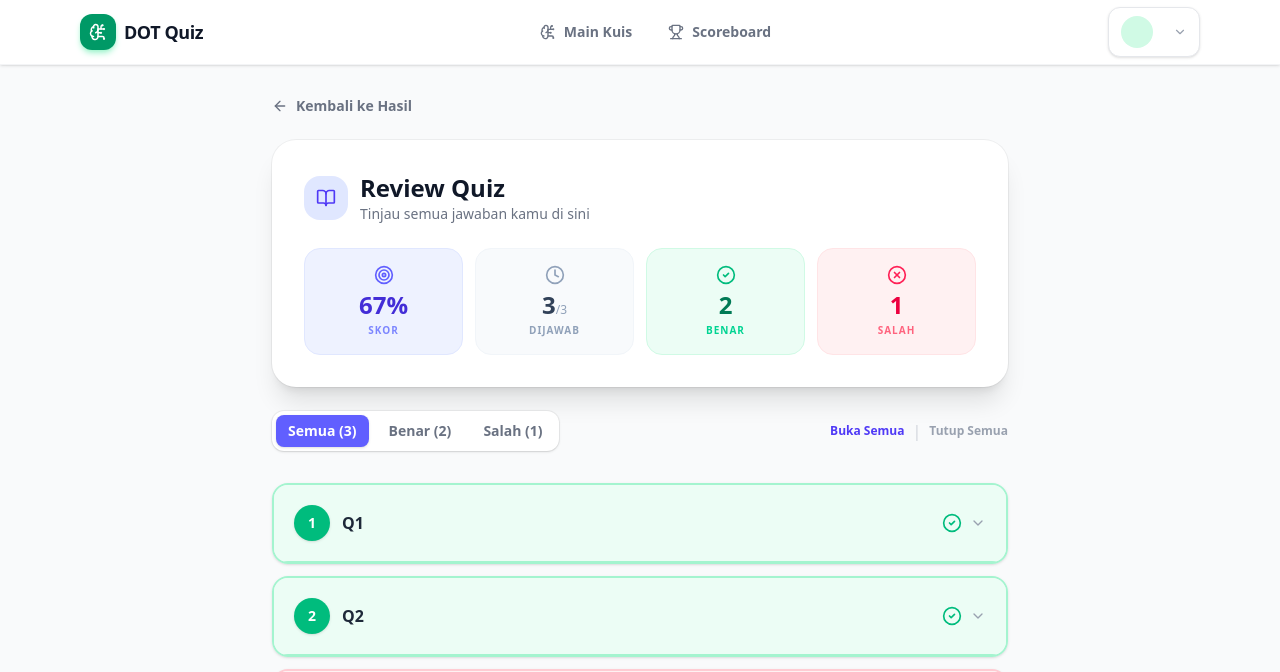
Test: QuizReview Page › klik kartu soal harus menampilkan detail pertanyaan
// Header kartu soal pertama mengandung teks Q1
Click the text "Q1" at x=353, y=523, box [342, 512, 364, 534]
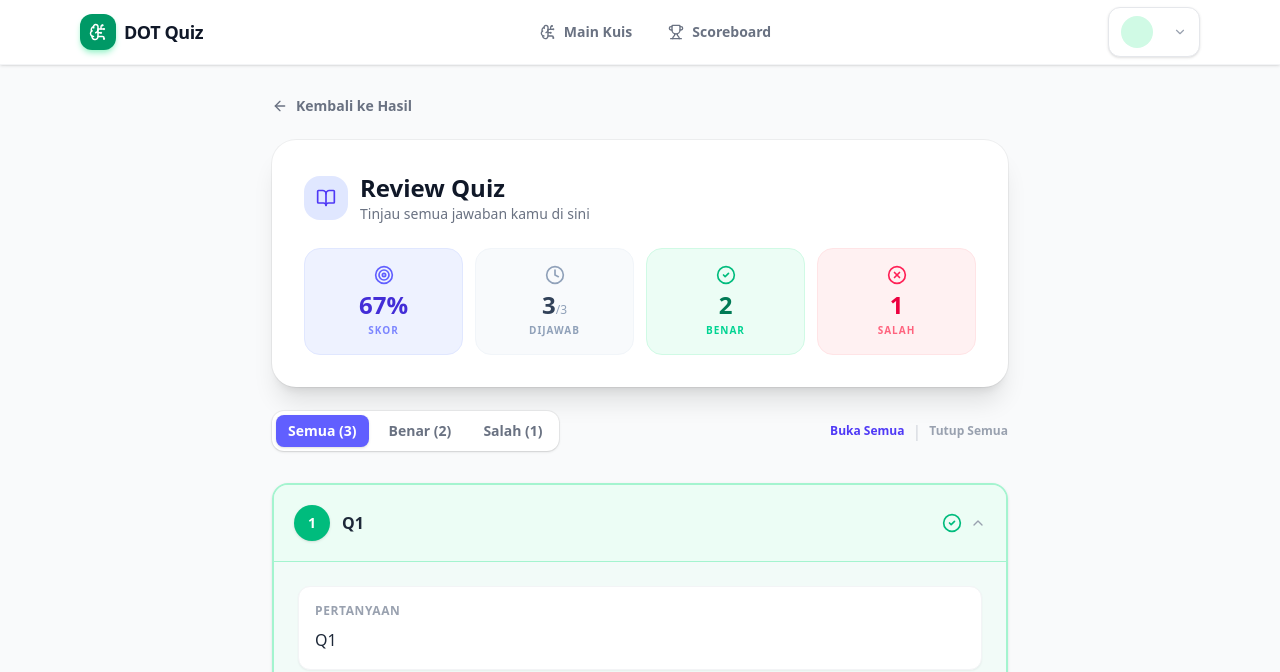
Check: the text "Pertanyaan" is shown, box [315, 602, 400, 619]
